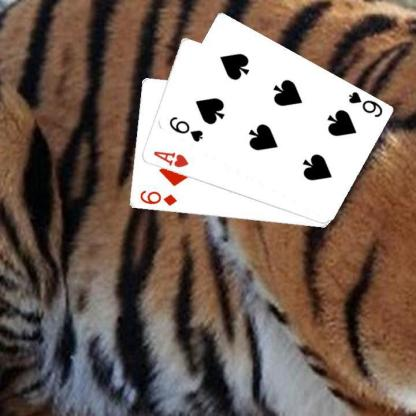6D: (137, 188, 178, 207)
6S: (346, 89, 384, 119), (166, 114, 204, 143)
AH: (150, 148, 190, 170)
